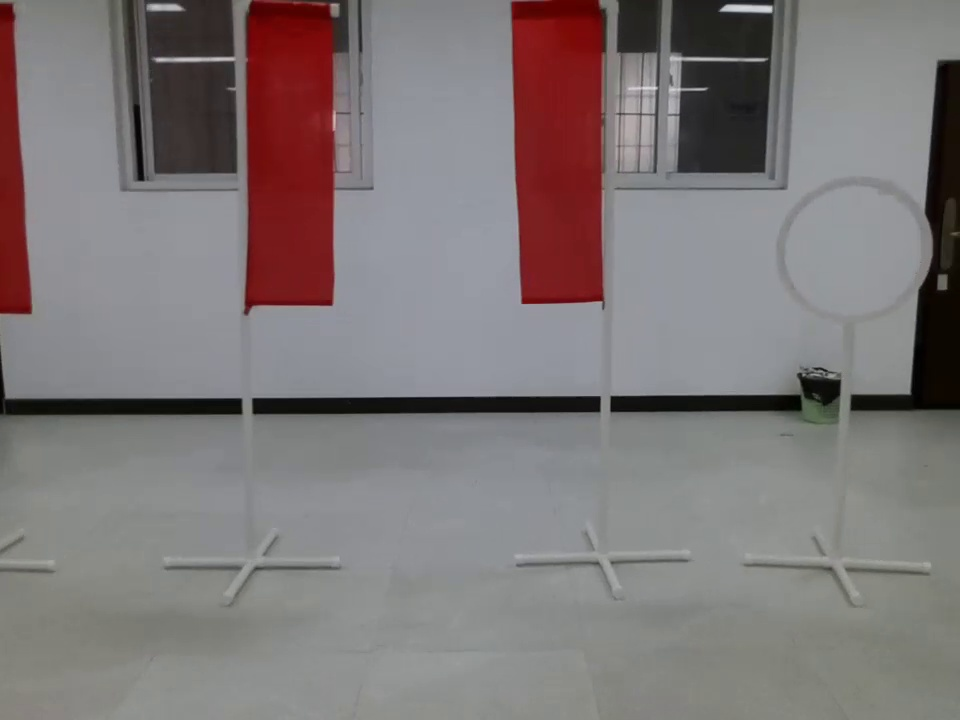qi: (506, 6, 626, 330), (243, 2, 344, 323), (1, 5, 41, 332)
quan: (778, 168, 930, 317)
